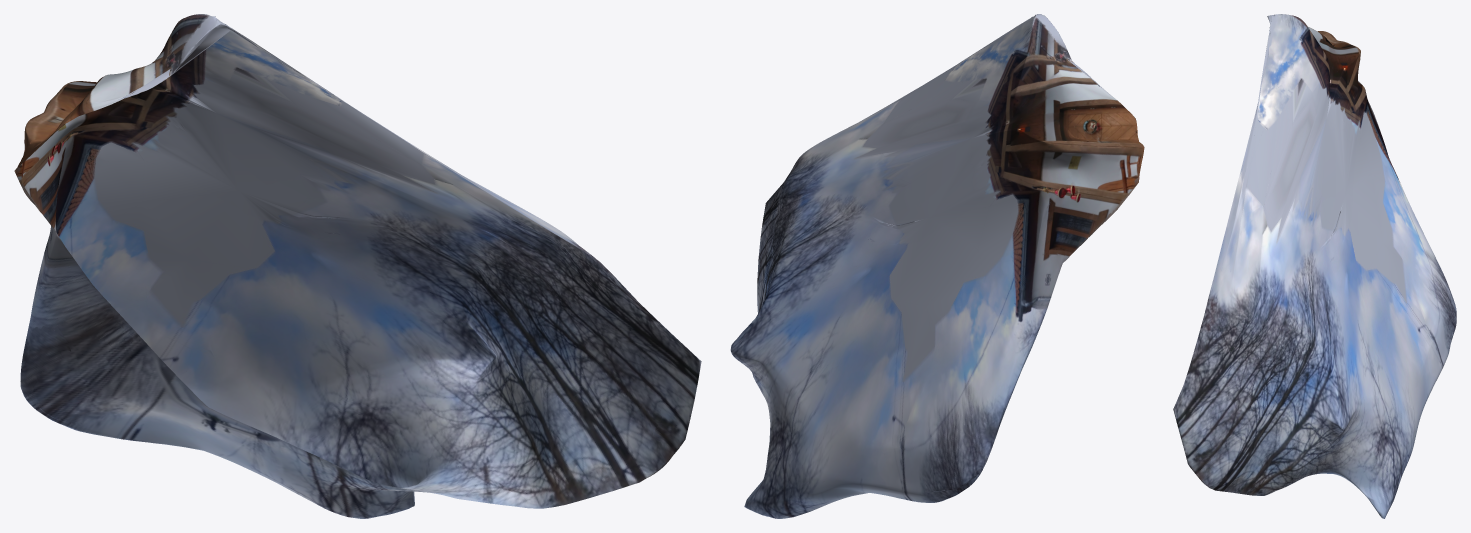
File: van.glb
3 renders of one model, left to right at view 1: azimuth 30°, elevation 25°; view 2: azimuth 150°, elevation 25°; view 3: azimuth 270°, elevation 25°, orthographic. The views are drawn at different scales.
Visible parts, largest first — view 1: 3DModel; view 2: 3DModel; view 3: 3DModel.
Part boxes in pixels (x1,y1,x2,y2): 3DModel: (14, 14, 701, 518); 3DModel: (730, 14, 1144, 518); 3DModel: (1173, 14, 1456, 518).
Size of the model in its own units: 1.08 by 1.12 by 0.6908.
1 material, 1 textured.
